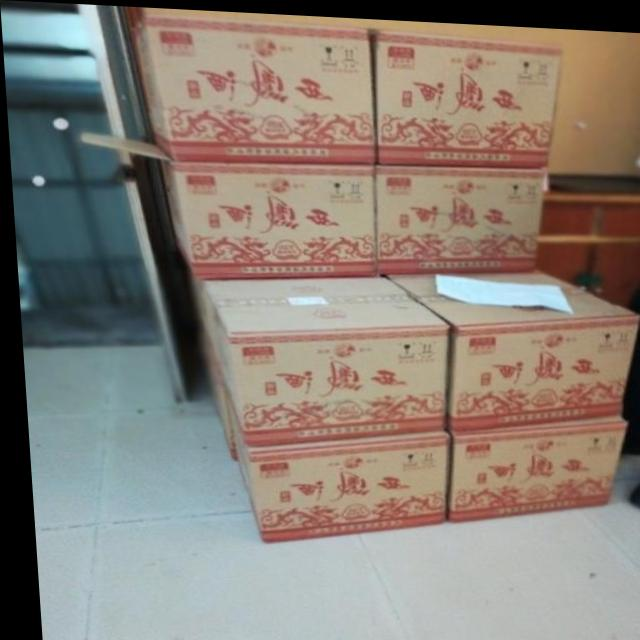box: (198, 270, 446, 444), (382, 265, 637, 427), (132, 15, 374, 160), (221, 390, 444, 540), (370, 26, 560, 162), (155, 158, 374, 275), (442, 409, 621, 517), (374, 160, 545, 270), (195, 325, 227, 455), (182, 264, 205, 349)
